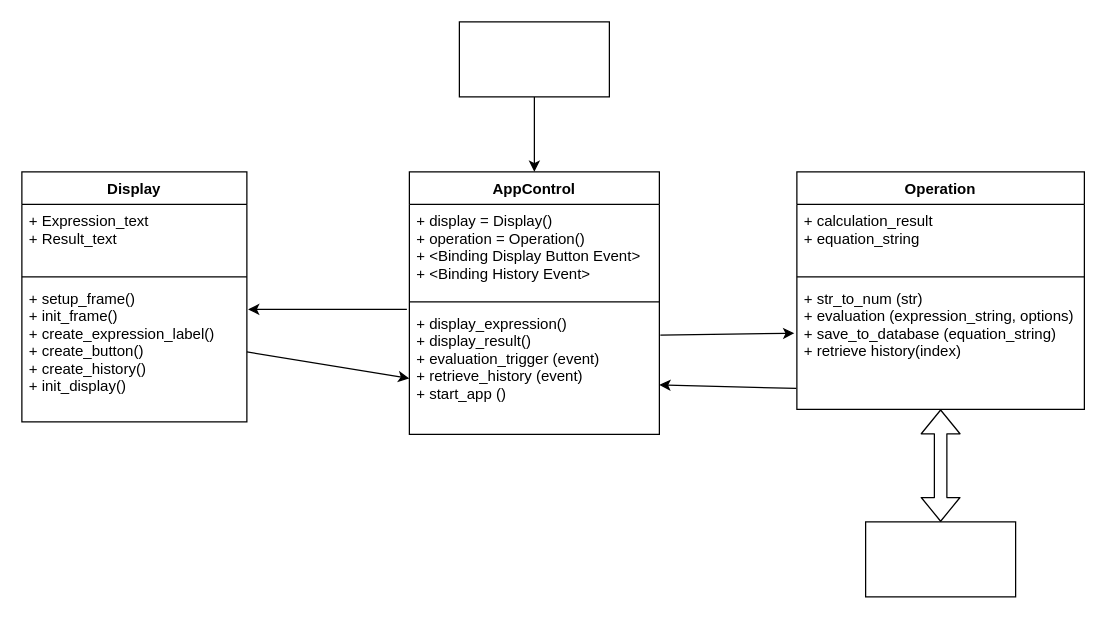
This 1106x619 diagram has some shape labels left out. Here are the shapes that lost their labels. From the top down, the centre of each, then its label:
At [533,59]: "Start Program".
At [940,559]: "DATABASE".
